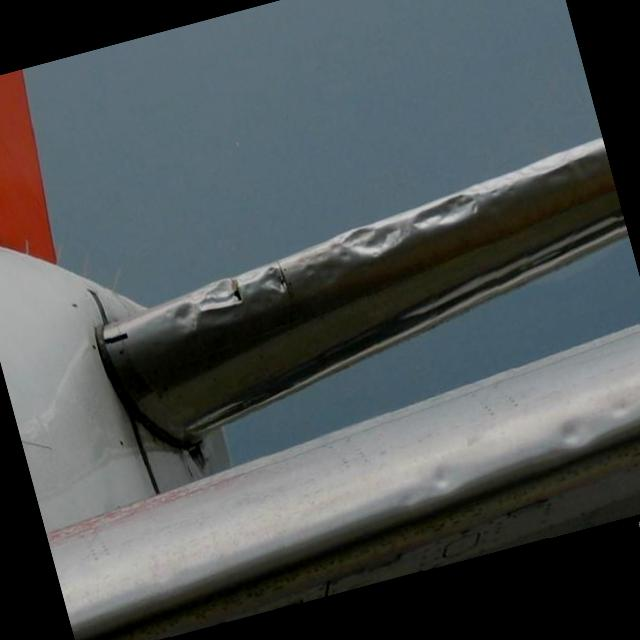dent: (332, 210, 412, 279), (396, 183, 488, 241), (169, 273, 252, 337), (249, 255, 295, 306), (553, 406, 598, 452), (426, 460, 456, 498), (603, 390, 633, 420)
